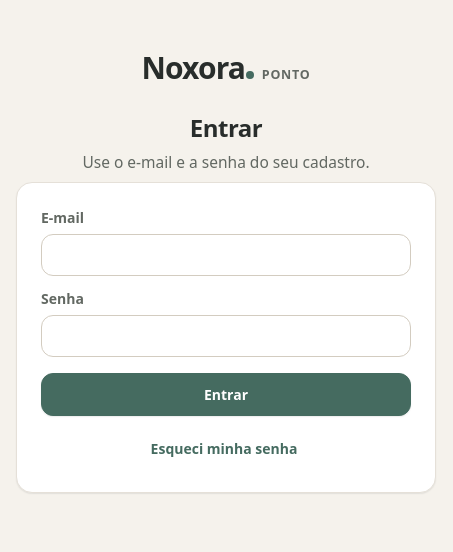
Test: informa limite de tentativas no login
In the field labelled "E-mail": x=226, y=255 [41,234,411,276], type "a@a.test"
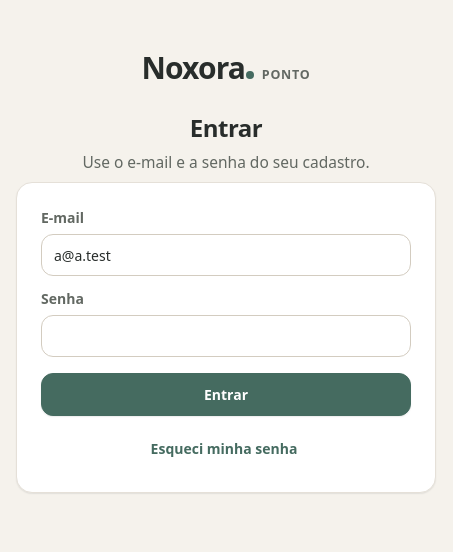
In the password field labelled "Senha": x=226, y=336 [41,315,411,357], type "senha"
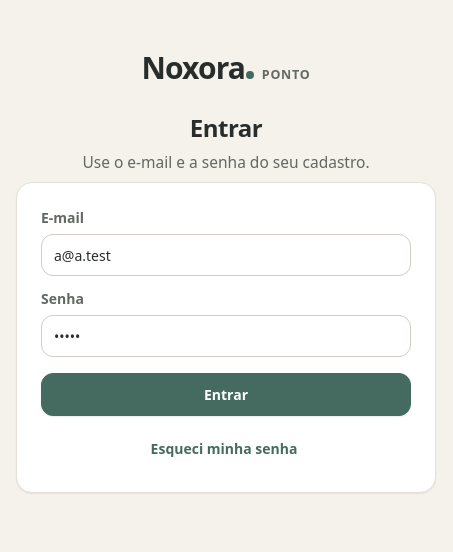
Click the button "Entrar": x=226, y=394 [41,373,411,416]
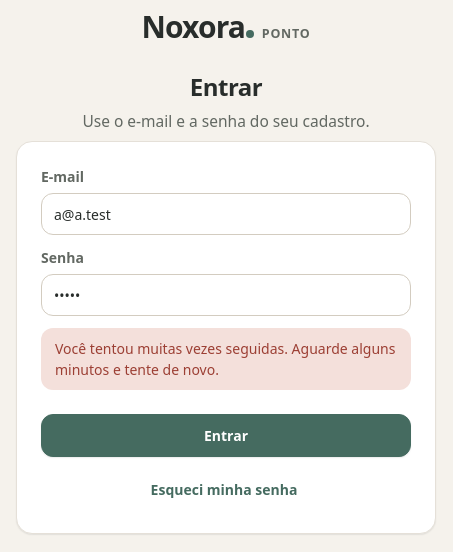
expect the message shows "muitas vezes": met, box [55,339,395,379]
